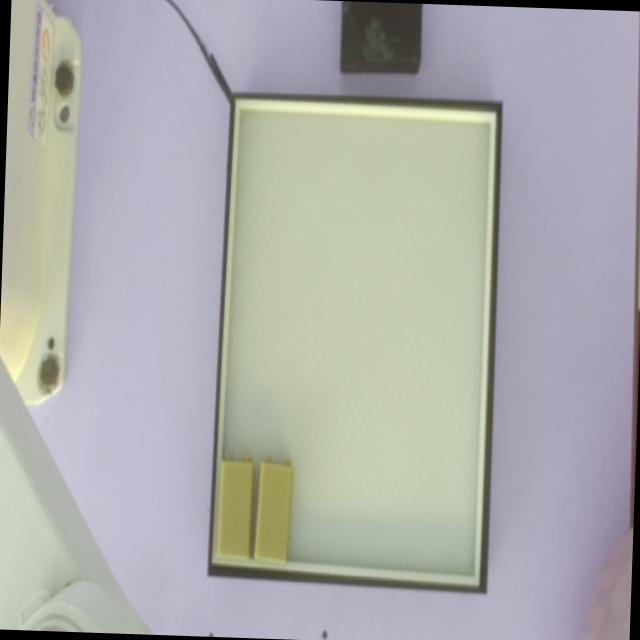bateria: (253, 452, 293, 562), (218, 450, 254, 555)
mesa: (208, 91, 503, 595)
